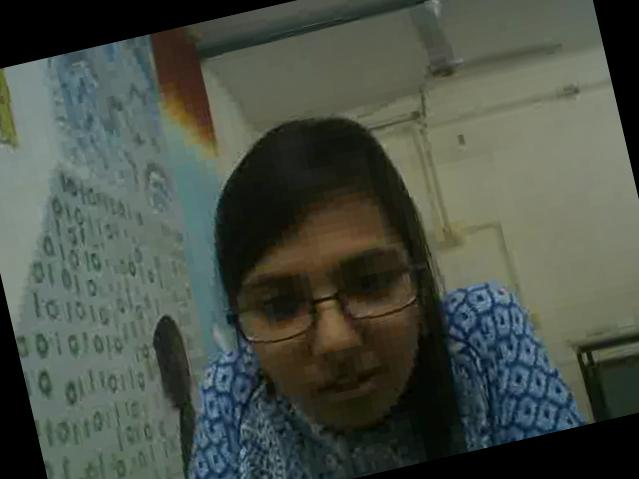bingung: (216, 188, 448, 459)
